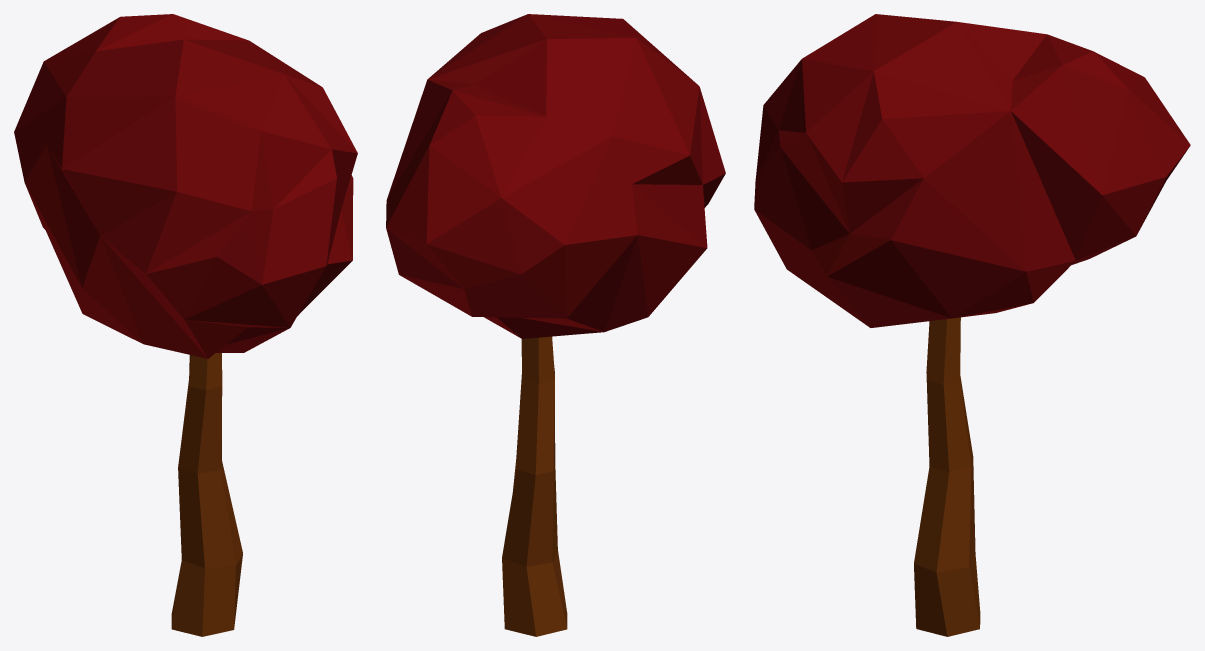
The model's file is Tree_1_Red.fbx.
3 renders of one model, left to right at view 1: azimuth 30°, elevation 25°; view 2: azimuth 150°, elevation 25°; view 3: azimuth 270°, elevation 25°, orthographic.
Parts seen in each view (by area): view 1: pCube2, pCylinder3; view 2: pCube2, pCylinder3; view 3: pCube2, pCylinder3.
Part boxes in pixels (x1,y1,x2,y2): pCube2: (14,14,357,358); pCylinder3: (171,353,242,636); pCube2: (386,14,725,338); pCylinder3: (502,336,567,636); pCube2: (754,14,1190,327); pCylinder3: (914,317,980,636).
Bounding box in the file's own units: 364 × 755 × 505.
